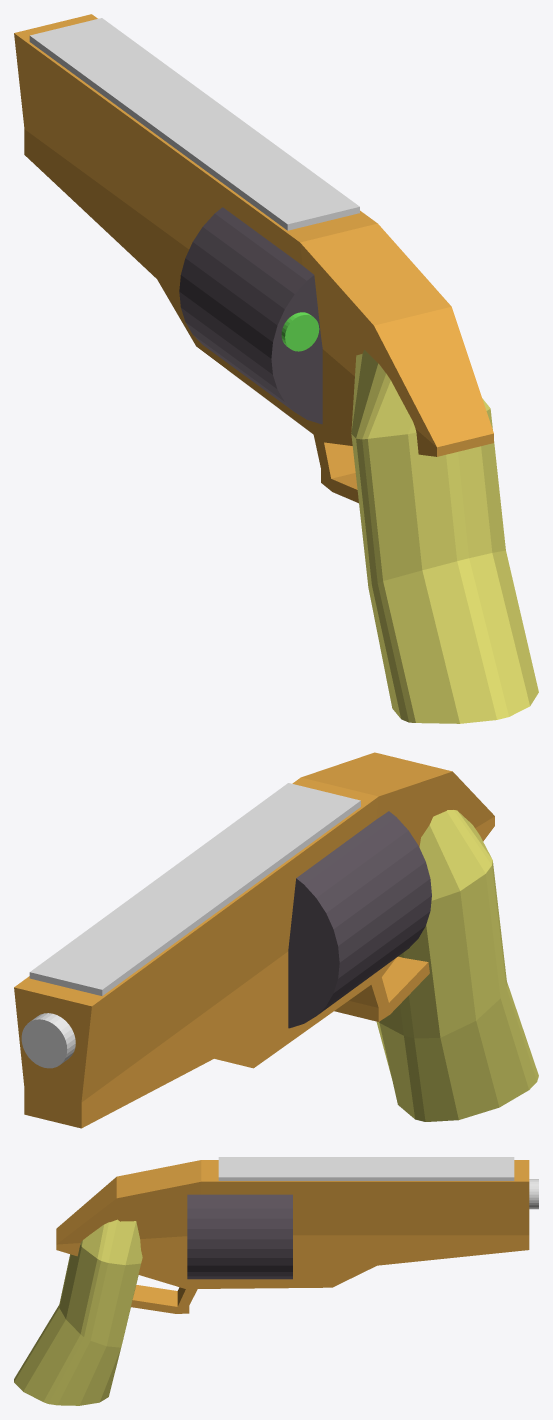
The model's file is revolver.fbx.
3 renders of one model, top to bottom at view 1: azimuth 30°, elevation 25°; view 2: azimuth 150°, elevation 25°; view 3: azimuth 270°, elevation 25°, orthographic. The views are drawn at different scales.
Parts seen in each view (by area): view 1: Cube.001, Cube, Cube.002, Cylinder, Cylinder.002; view 2: Cube.001, Cube, Cube.002, Cylinder, Cylinder.001; view 3: Cube.001, Cube, Cylinder, Cube.002, Cylinder.001.
Part boxes in pixels (x1,y1,x2,y2): Cube.001: (14, 14, 493, 503); Cube: (351, 350, 538, 723); Cube.002: (29, 18, 359, 230); Cylinder: (179, 207, 322, 424); Cylinder.002: (281, 312, 319, 351); Cube.001: (14, 752, 494, 1128); Cube: (376, 810, 538, 1121); Cube.002: (29, 783, 360, 995); Cylinder: (288, 811, 431, 1028); Cylinder.001: (21, 1013, 75, 1068); Cube.001: (56, 1160, 529, 1313); Cube: (14, 1219, 142, 1405); Cylinder: (187, 1194, 292, 1279); Cube.002: (218, 1157, 514, 1180); Cylinder.001: (529, 1179, 538, 1209).
Size of the model in its own units: 140 by 334 by 696.
